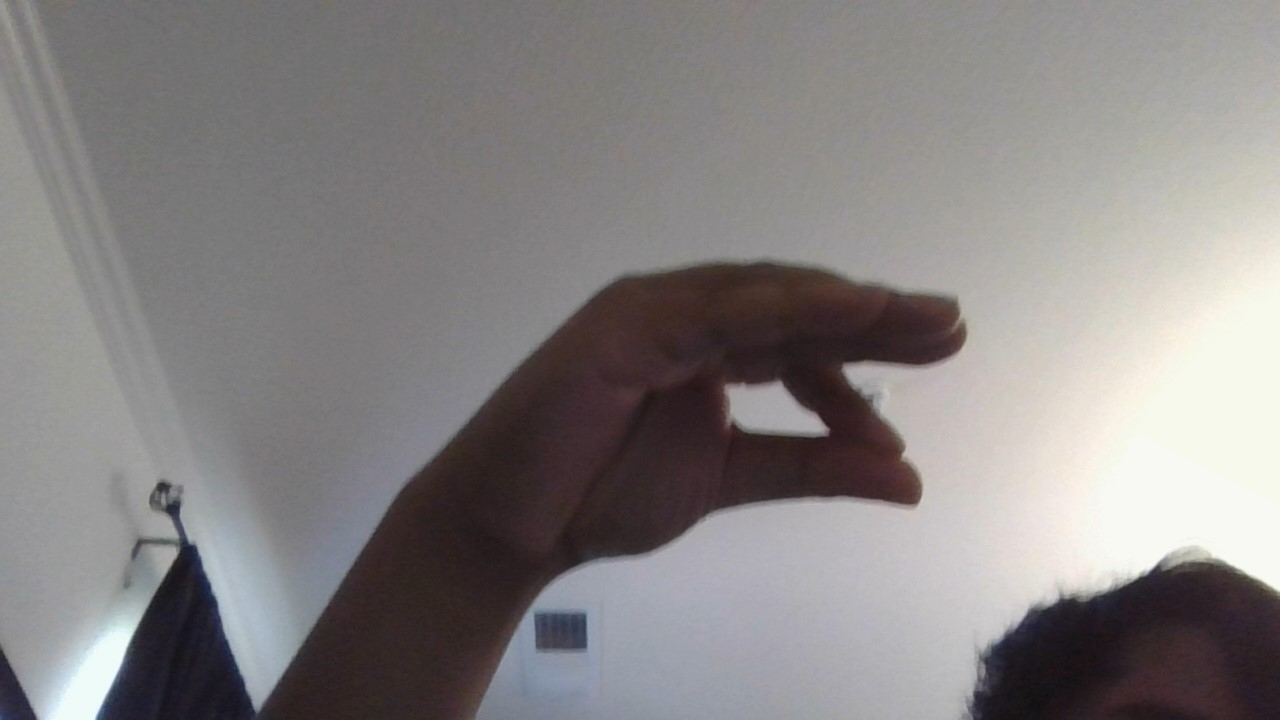z: (396, 234, 1013, 595)
